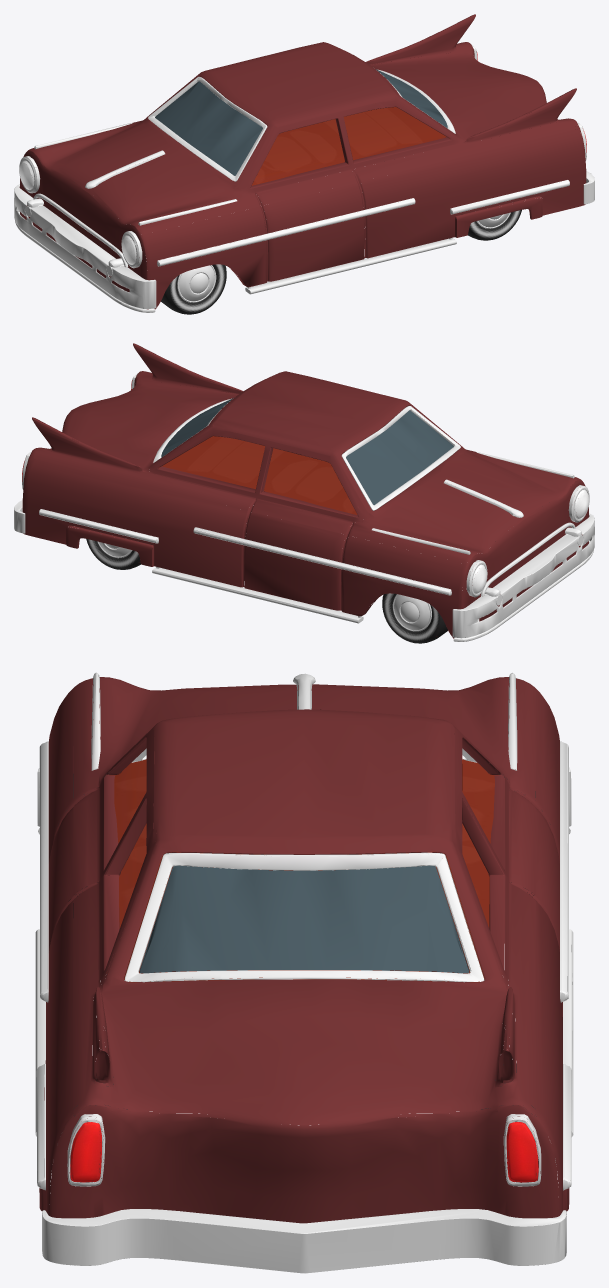
Rendered from pier_saloon.glb.
The picture shows the model from 3 angles, top to bottom: view 1: azimuth 30°, elevation 25°; view 2: azimuth 150°, elevation 25°; view 3: azimuth 270°, elevation 25°; orthographic projection. The views are drawn at different scales.
Visible parts, largest first — view 1: Pier saloon; view 2: Pier saloon; view 3: Pier saloon.
Boxes of the visible parts, x1,y1,x2,y2 form: Pier saloon: [14, 14, 594, 314]; Pier saloon: [14, 343, 594, 643]; Pier saloon: [35, 672, 573, 1273].
Size of the model in its own units: 4.68 by 1.42 by 2.28.
Materials: 2 (1 with a texture image).
